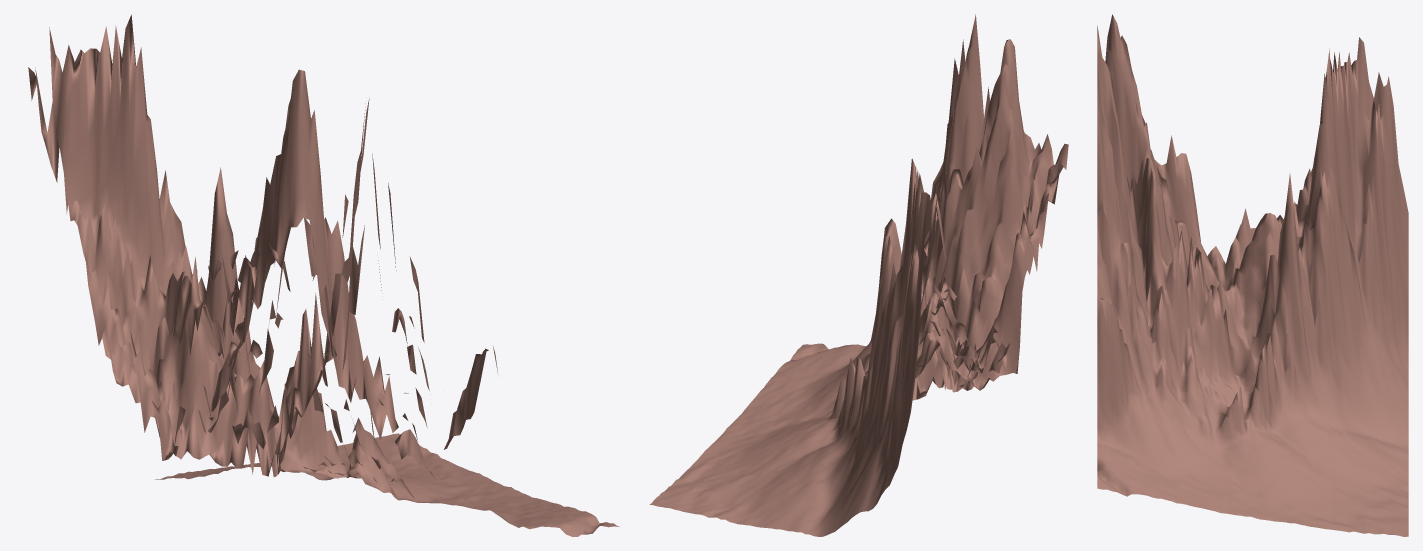
Rendered from zhangye-danxia-lo.glb.
3 views of the same model, side by side, from view 1: azimuth 30°, elevation 25°; view 2: azimuth 150°, elevation 25°; view 3: azimuth 270°, elevation 25° (orthographic). The views are drawn at different scales.
Bounding box in the file's own units: 3200 × 4839 × 3200.
